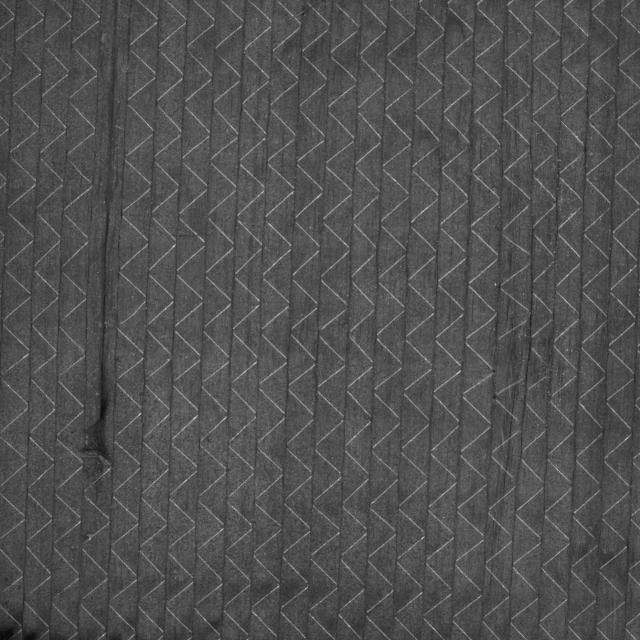carbon-fibre-defect: (84, 66, 130, 466)
